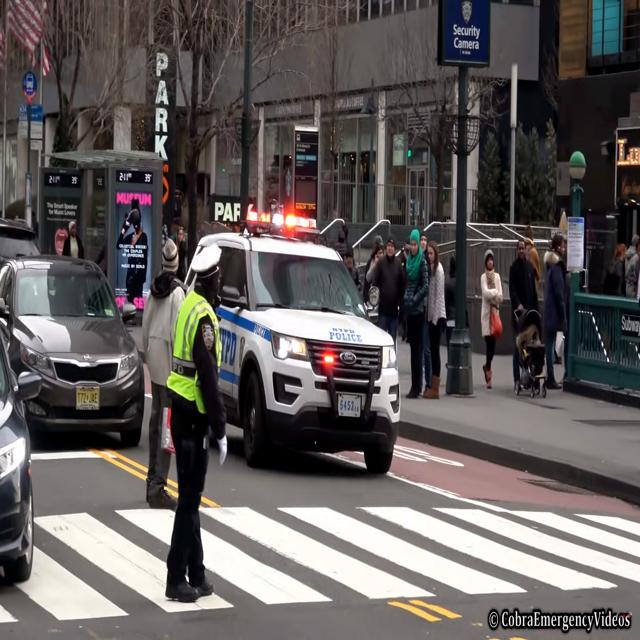emergency-vehicles: (170, 202, 398, 492)
